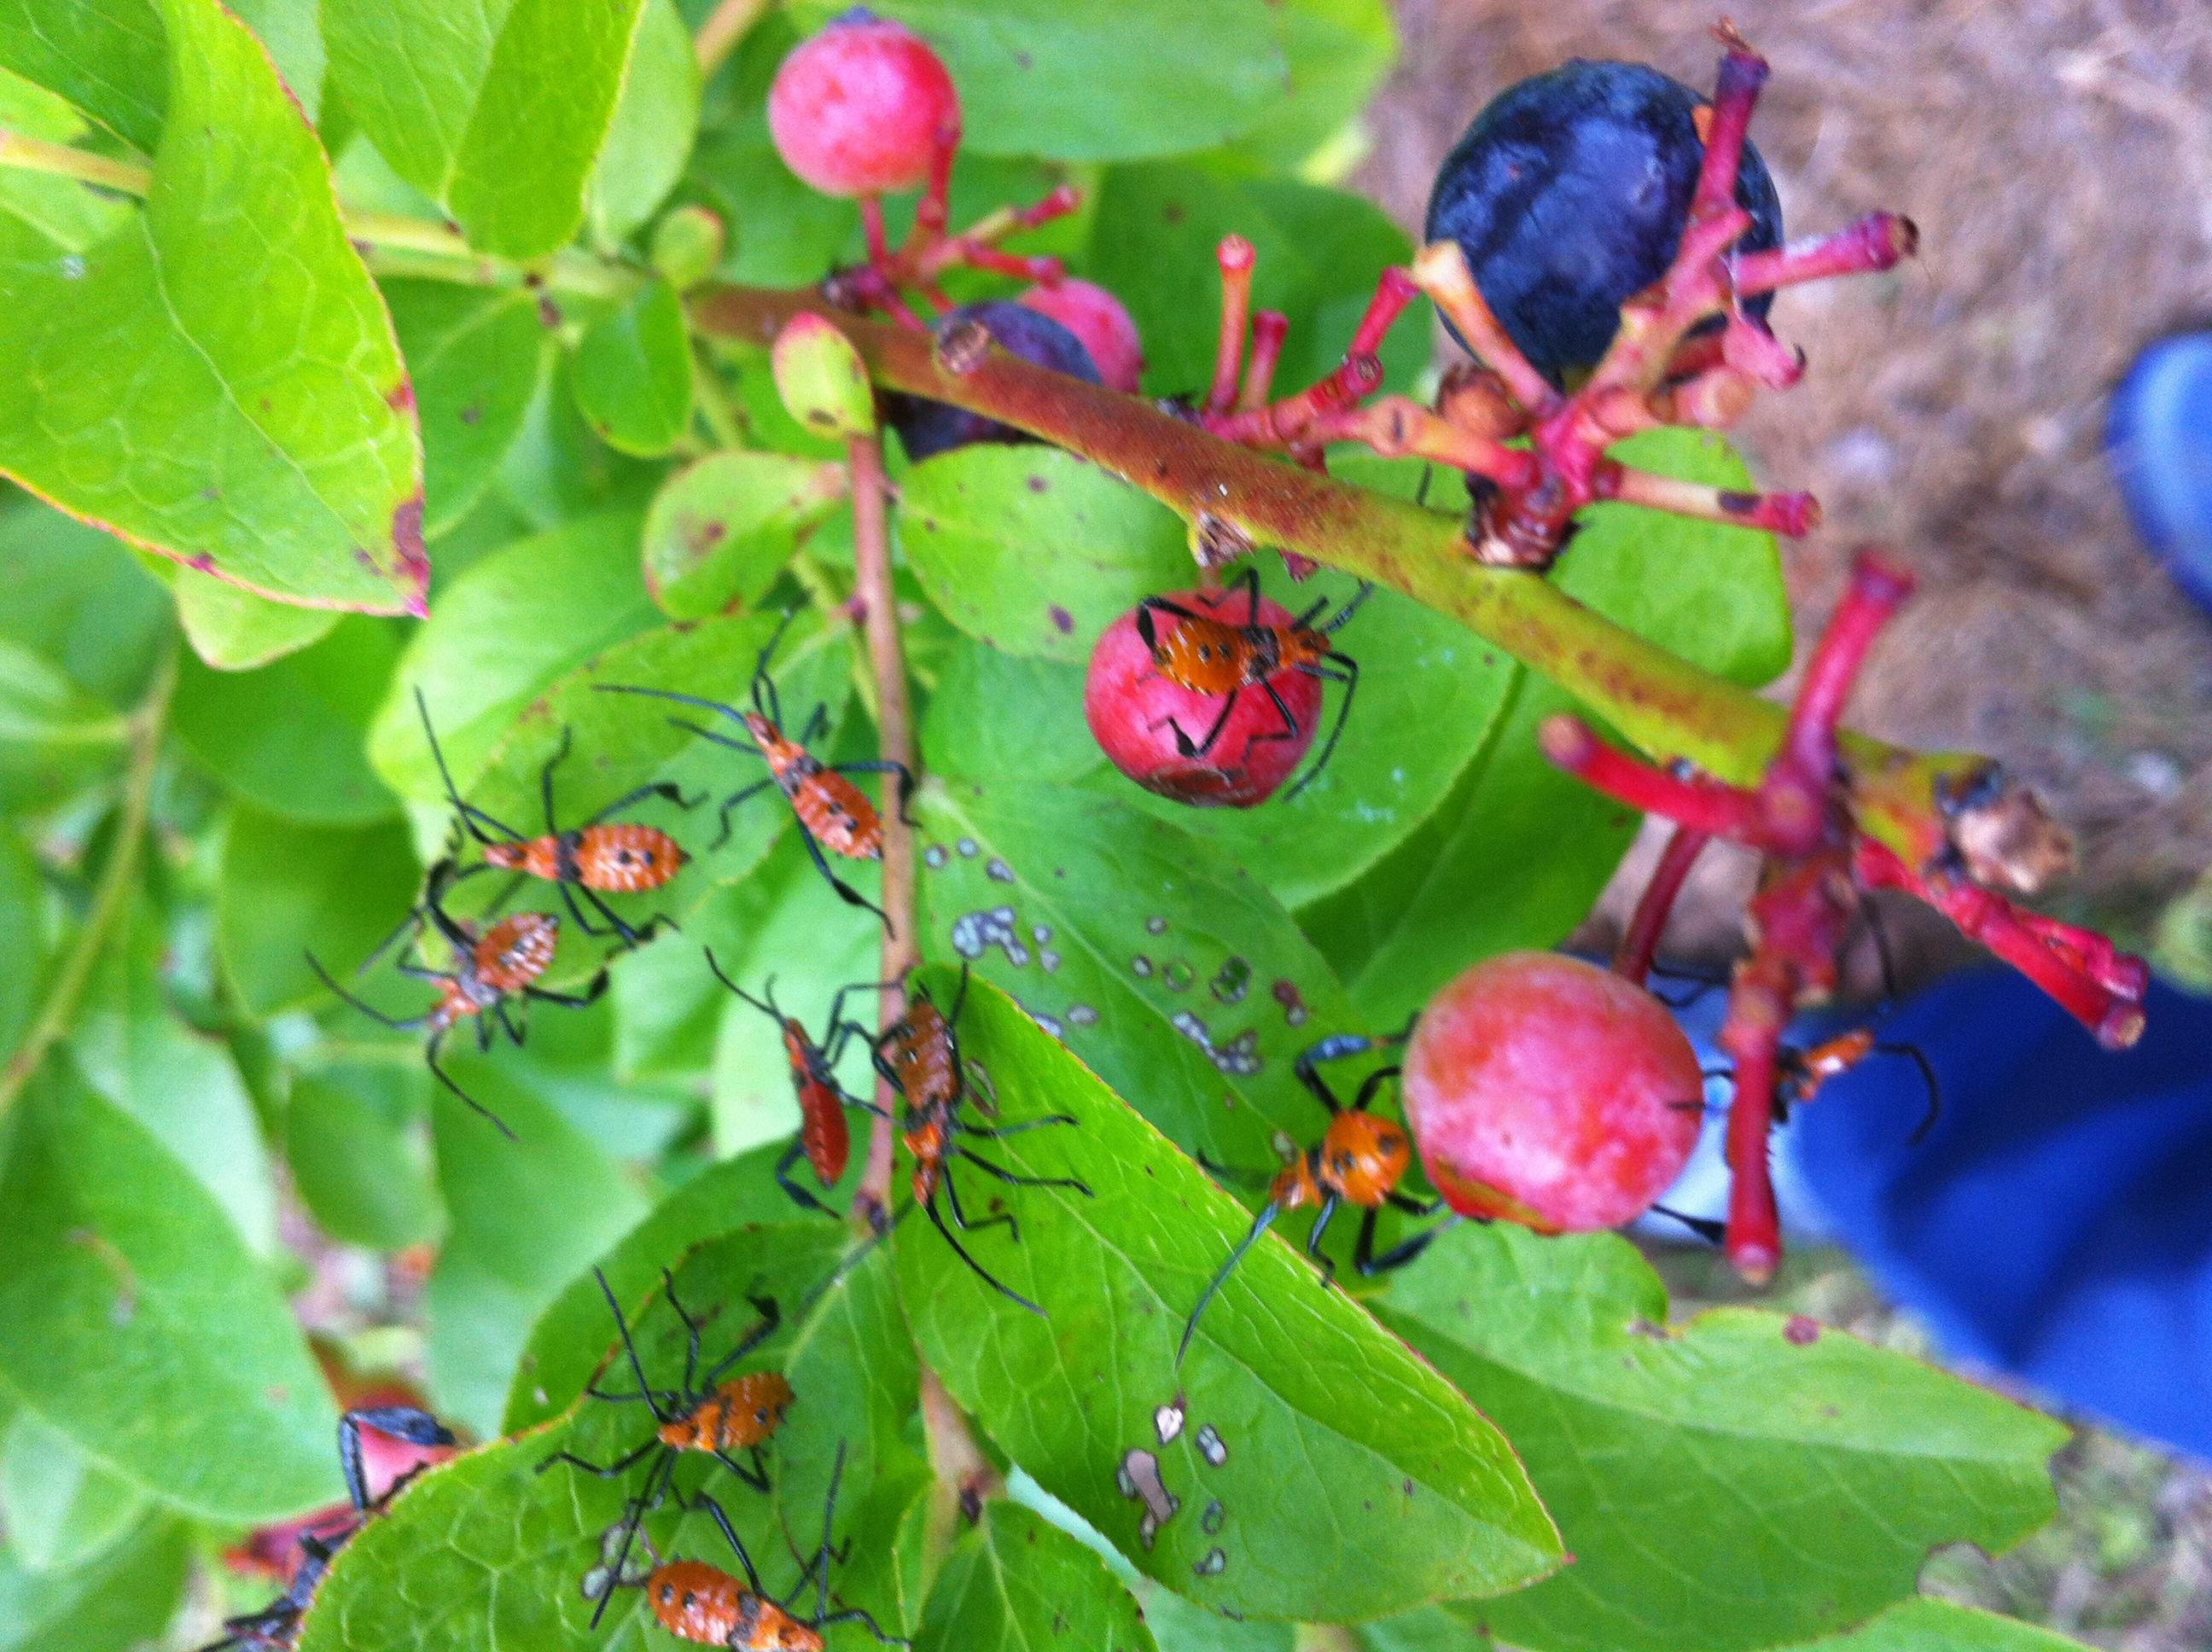Blueberry leaf: (3, 10, 467, 668)
